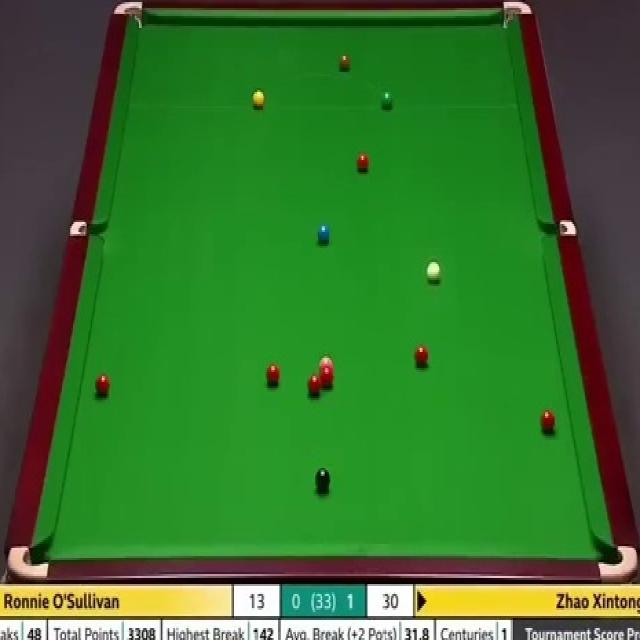pocket: (595, 545, 640, 583), (10, 543, 48, 583), (113, 0, 143, 29), (540, 218, 577, 240), (502, 3, 532, 29), (71, 218, 106, 237)
